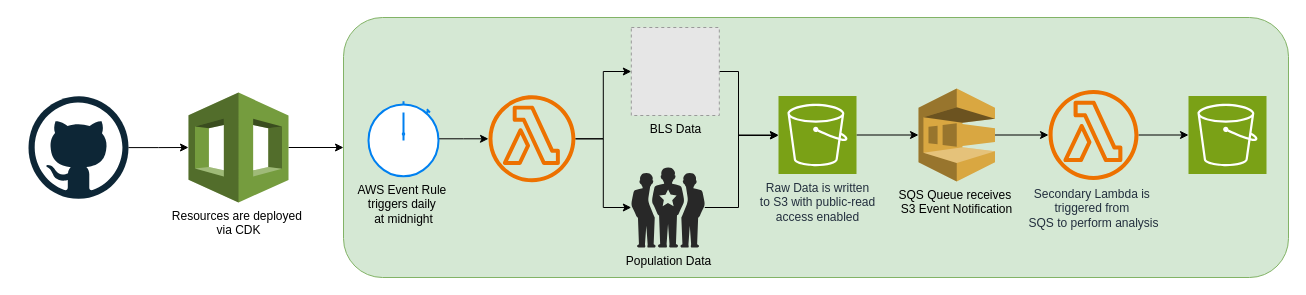
Some shapes in this 1306 by 295 pixel diagram are drawn without their labels. Grey dashed boxes stand in for pictures. Here are the shapes that lost their labels. From the top down, the centre of each, then its label:
(78,147): GitHub Actions Trigger the Pipeline
(531,138): Ingestion Lambda is triggered to retrieve data from APIs
(1227,134): Outputs are written back to S3
